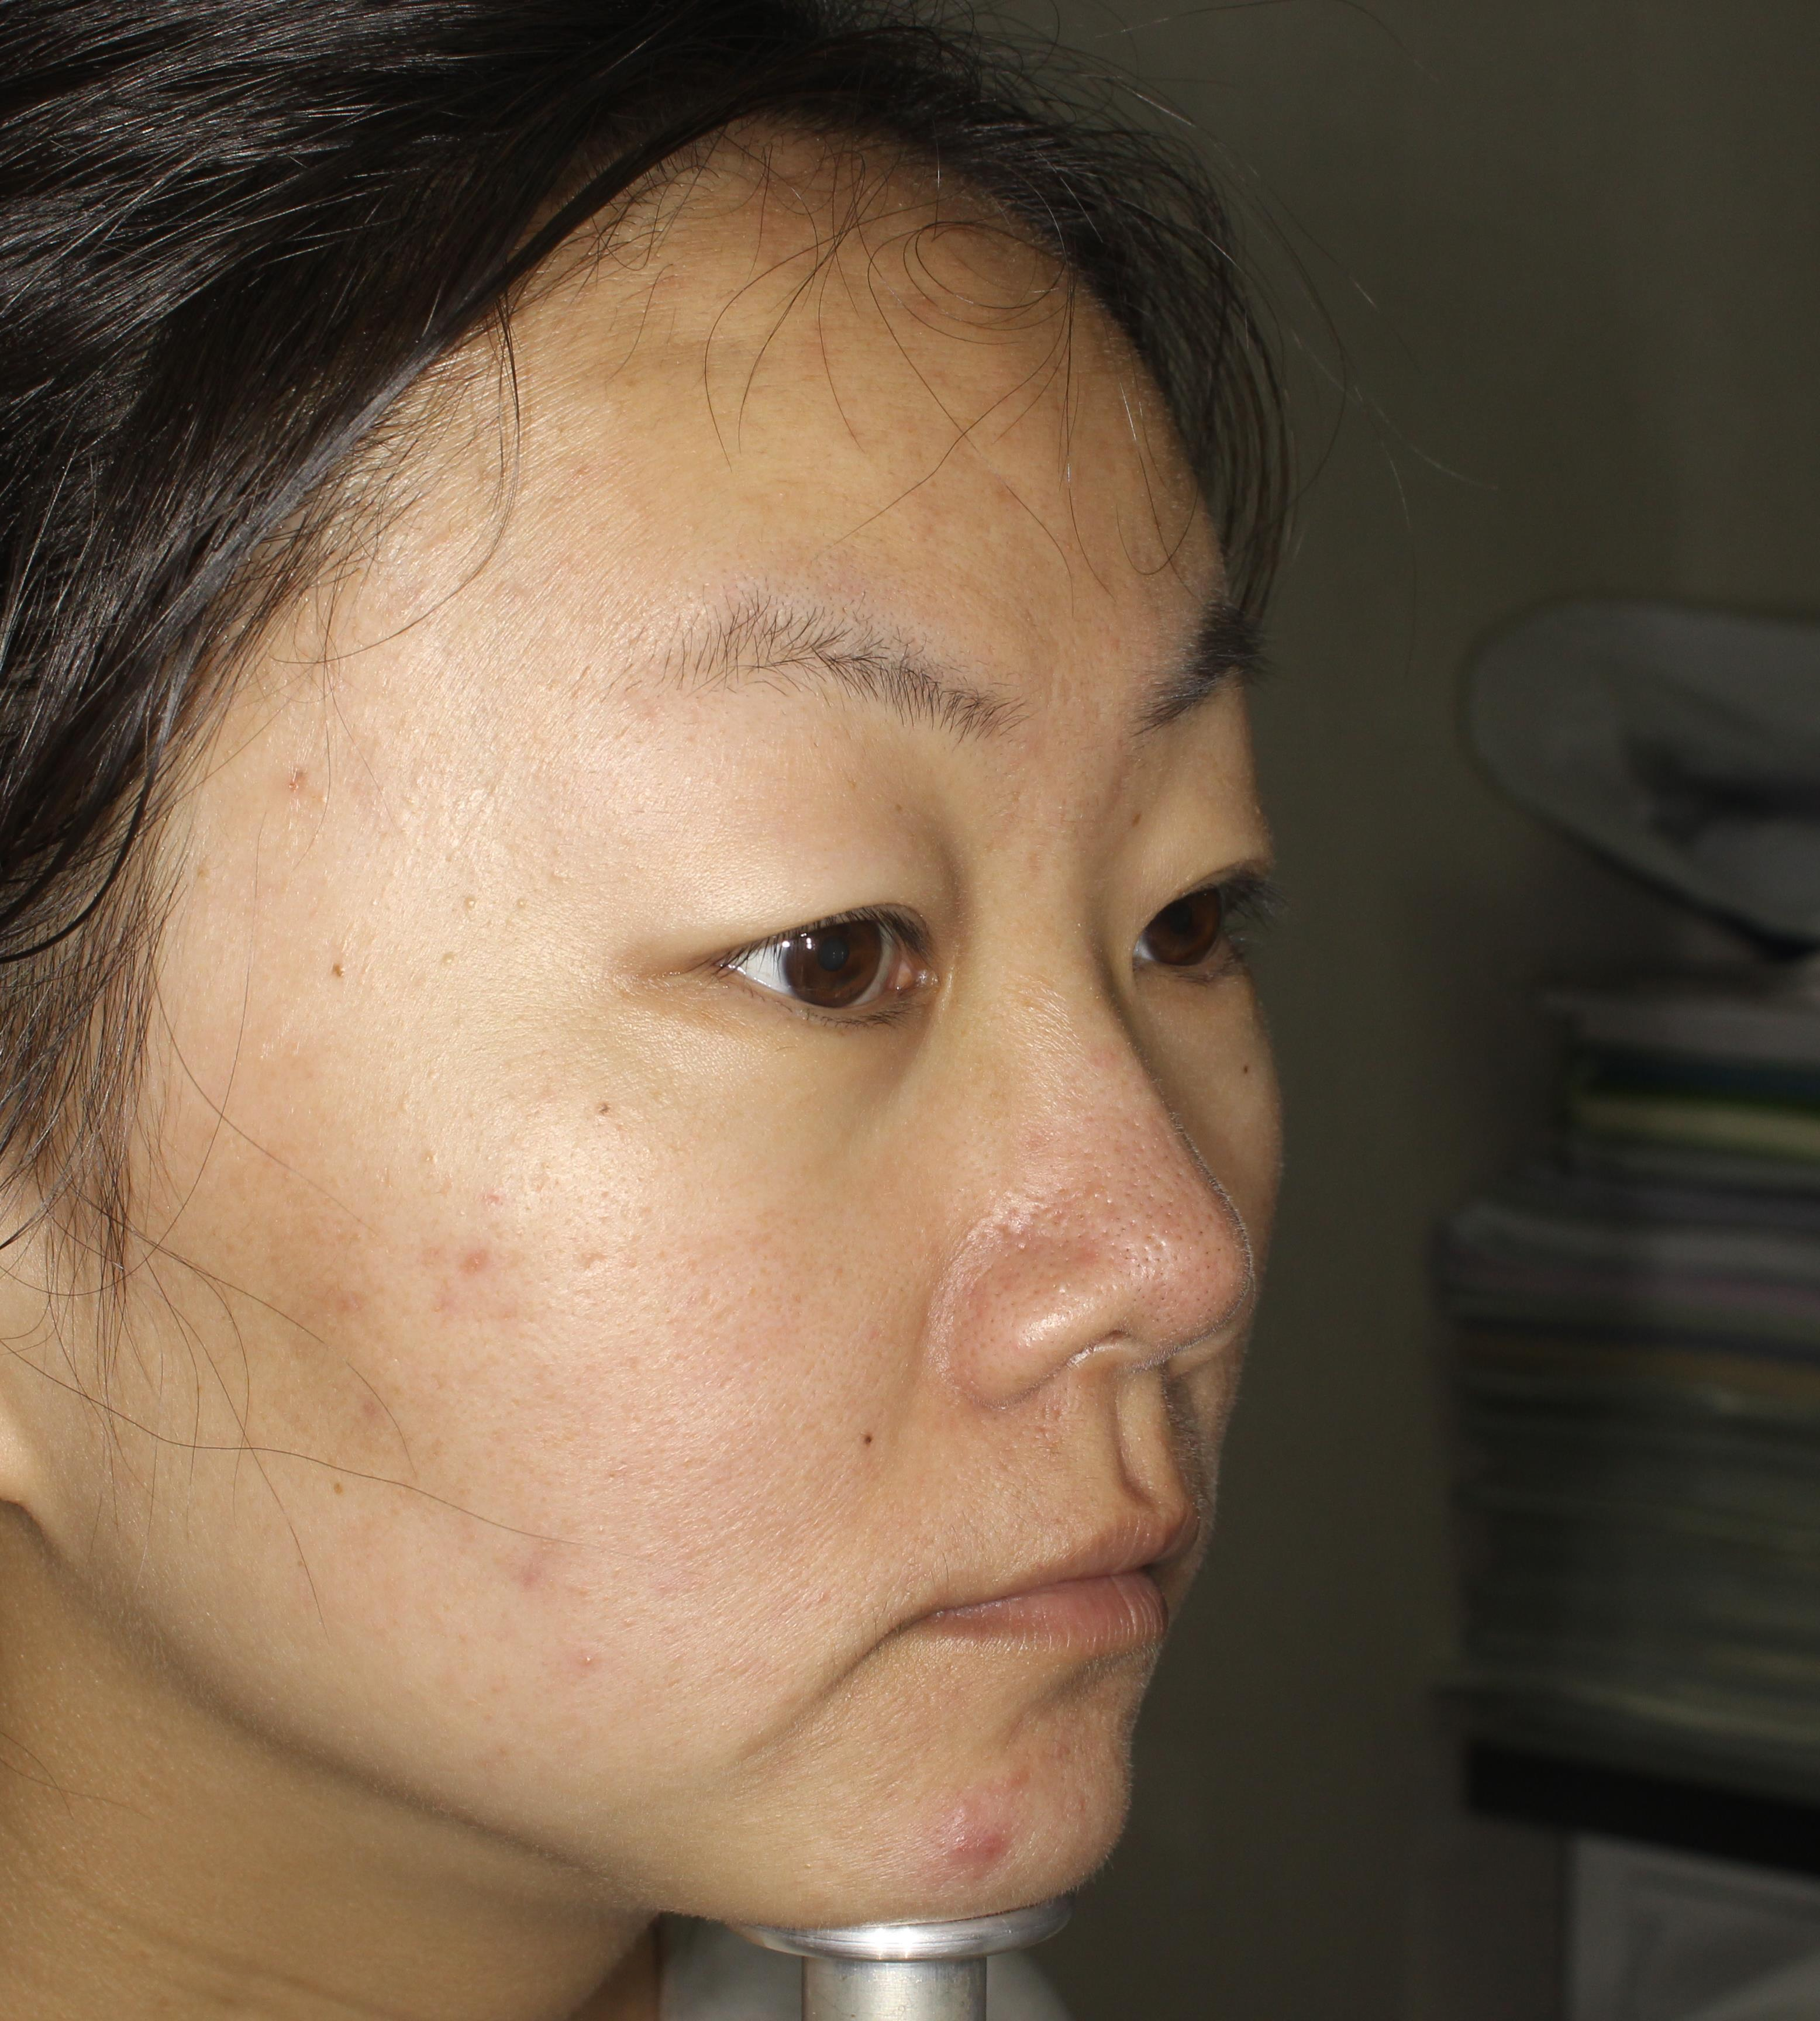fore: (933, 1786, 1045, 1903), (427, 1213, 534, 1320), (906, 186, 996, 281)
